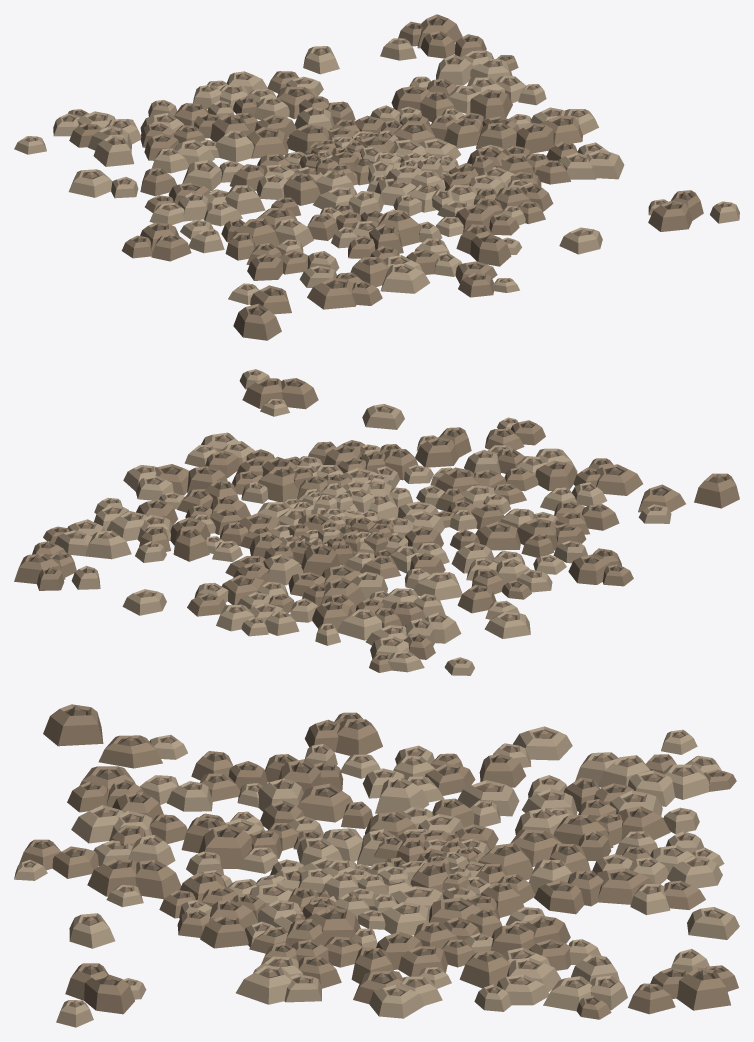
The model's file is SM_Env_Barnacles_04.fbx.
3 renders of one model, top to bottom at view 1: azimuth 30°, elevation 25°; view 2: azimuth 150°, elevation 25°; view 3: azimuth 270°, elevation 25°, orthographic. The views are drawn at different scales.
Visible parts, largest first — view 1: SM_Env_Barnacles_04_LOD0; view 2: SM_Env_Barnacles_04_LOD0; view 3: SM_Env_Barnacles_04_LOD0.
Part boxes in pixels (<box>): SM_Env_Barnacles_04_LOD0: <box>14,14,739,340</box>; SM_Env_Barnacles_04_LOD0: <box>14,369,739,675</box>; SM_Env_Barnacles_04_LOD0: <box>14,704,739,1027</box>.
Size of what is drawn, in the model's own units: 239 by 11.89 by 241.
